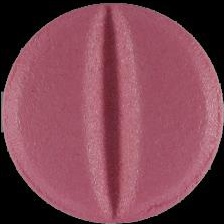53808-0728: (0, 0, 224, 224)
